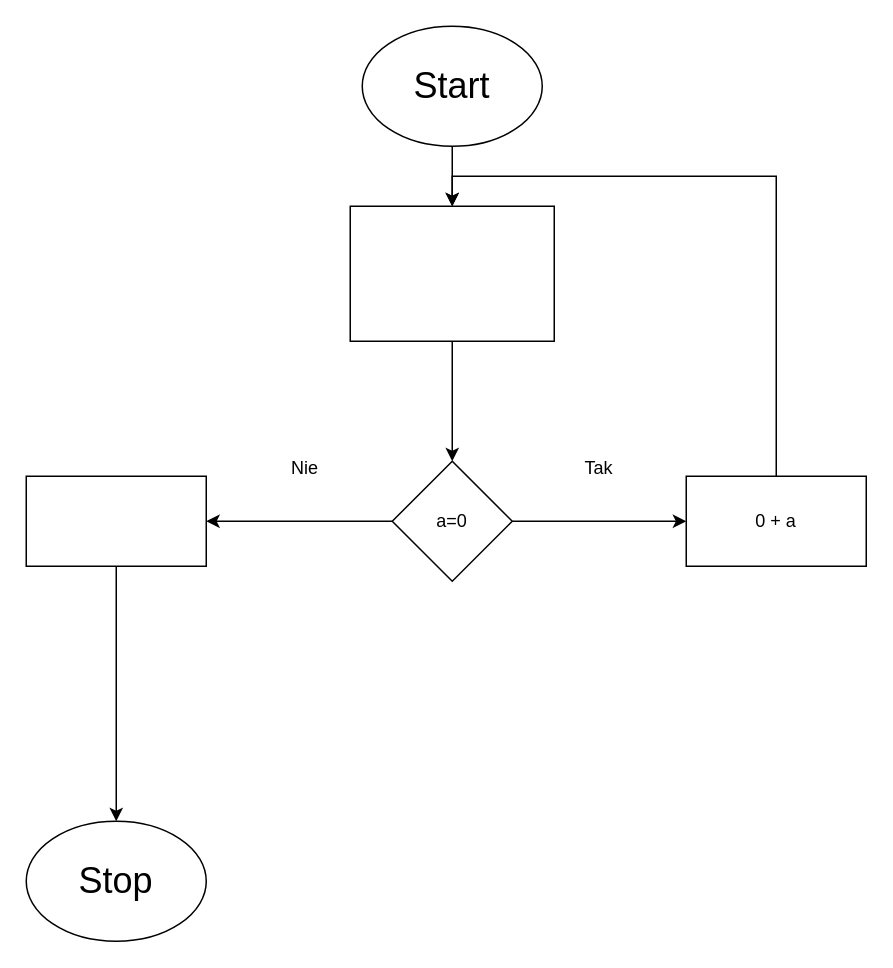
The diagram is 893 pixels wide and 968 high, and some of its shapes have lost their labels. The box of each missing label's shape, as (x1, y1, x2, y2) in pixels:
Pobierz a suma = 0: (349, 205, 554, 341)
Wyświetl sumę: (25, 475, 206, 566)
